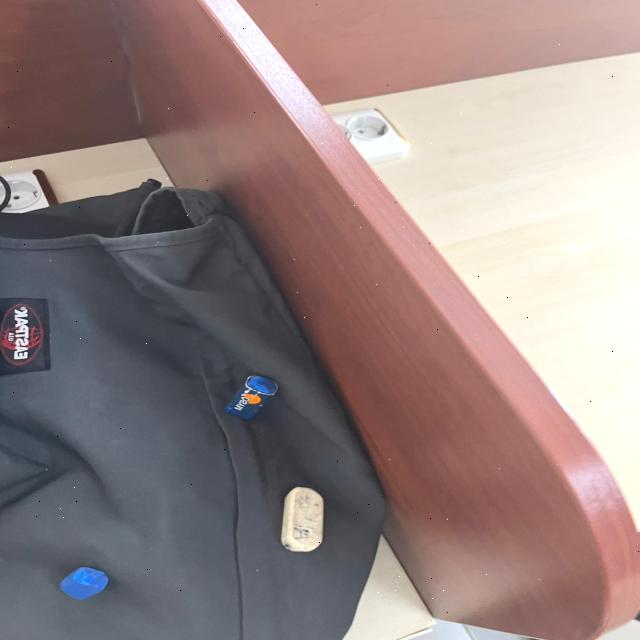eraser: (271, 474, 342, 573), (224, 368, 295, 428), (55, 562, 118, 608)
